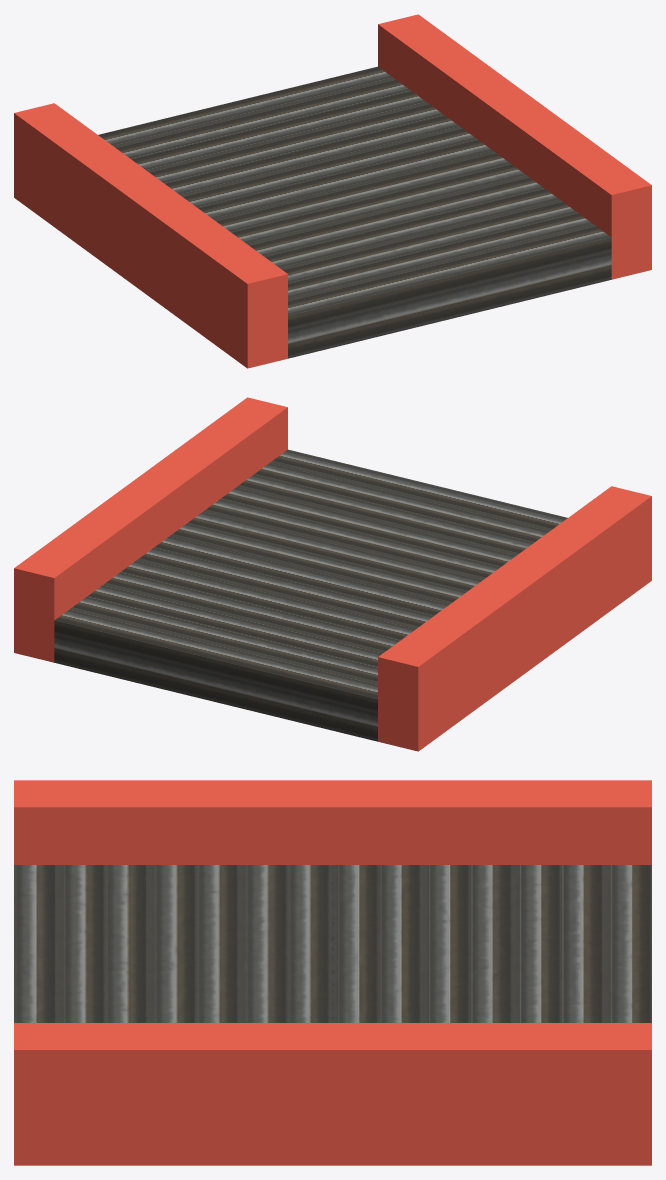
File: Conveyor_Straight.fbx
The picture shows the model from 3 angles, top to bottom: view 1: azimuth 30°, elevation 25°; view 2: azimuth 150°, elevation 25°; view 3: azimuth 270°, elevation 25°; orthographic projection. The views are drawn at different scales.
Visible parts, largest first — view 1: straight; view 2: straight; view 3: straight.
Part boxes in pixels (left/top/right/bottom): straight: left=14, top=14, right=651, bottom=368; straight: left=14, top=397, right=651, bottom=751; straight: left=14, top=780, right=651, bottom=1165.
Size of the model in its own units: 10 by 2 by 10.
Materials: 2 (1 with a texture image).
